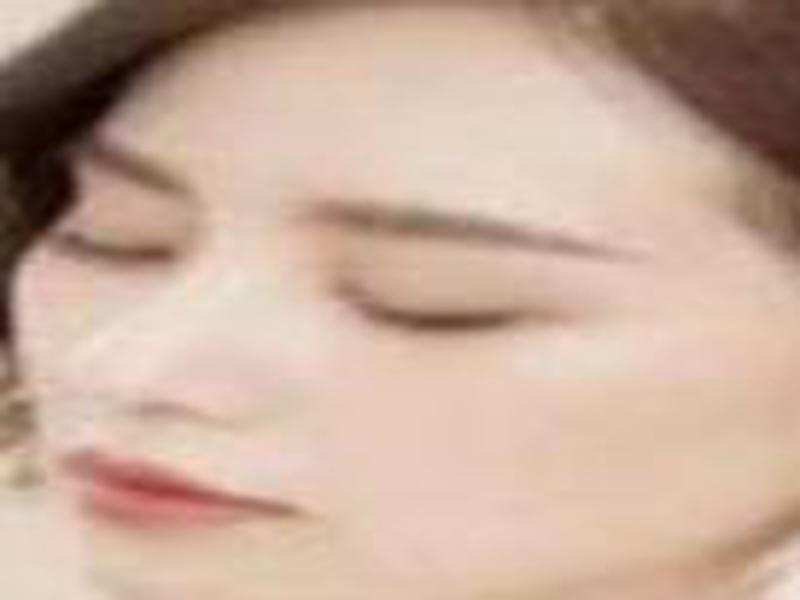without_mask: (7, 14, 800, 600)
